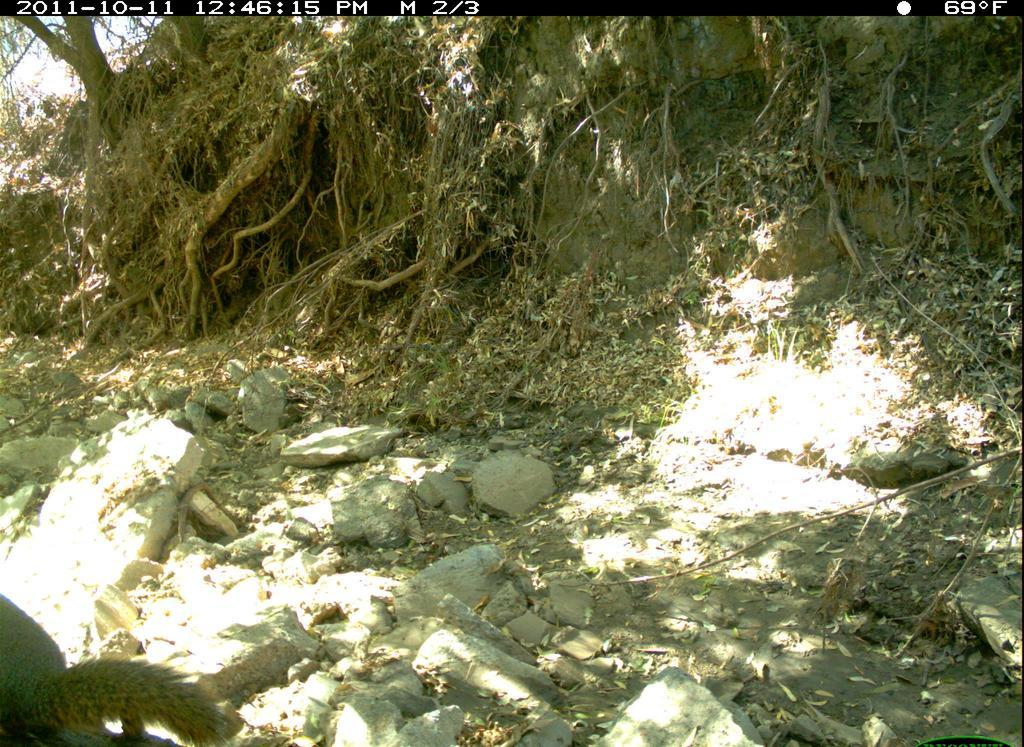squirrel: (6, 585, 241, 747)
